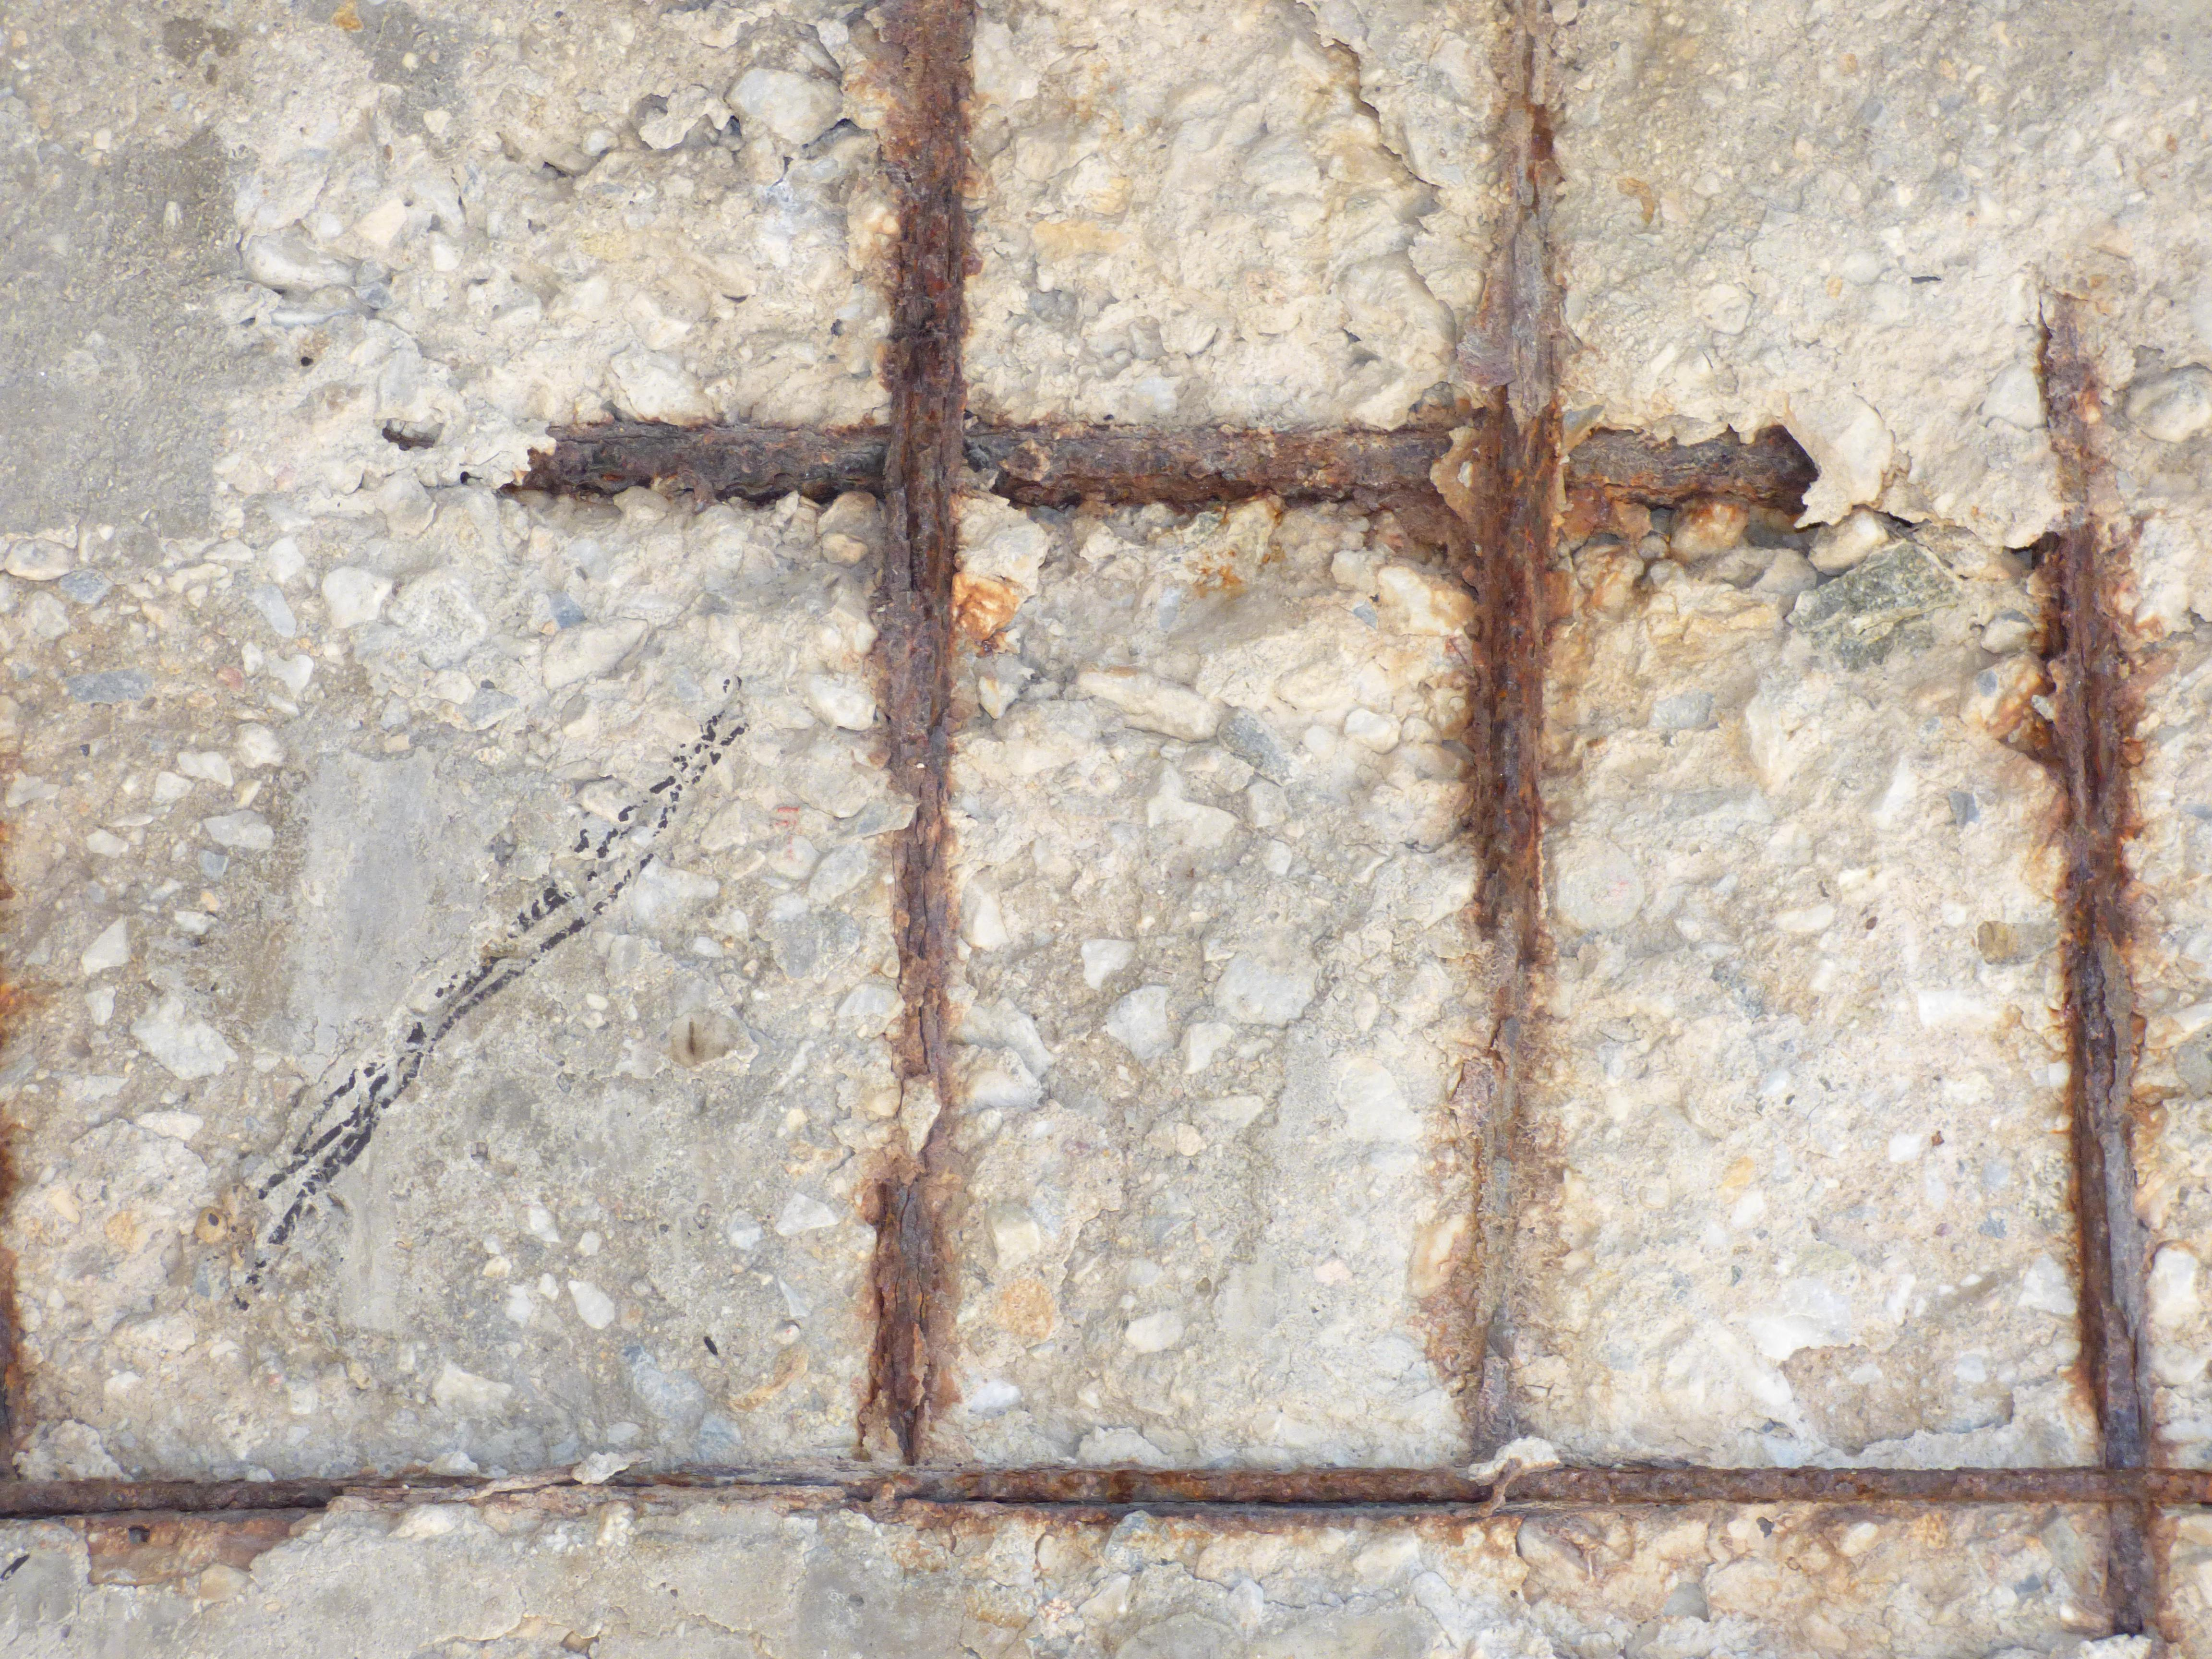crack: (1289, 2, 1460, 213)
hole: (301, 352, 312, 366)
rebar: (2036, 288, 2167, 1642), (1440, 0, 1561, 1469), (862, 2, 977, 1478), (0, 1464, 2210, 1523), (512, 415, 1827, 502)
spall: (3, 2, 2212, 1659)
